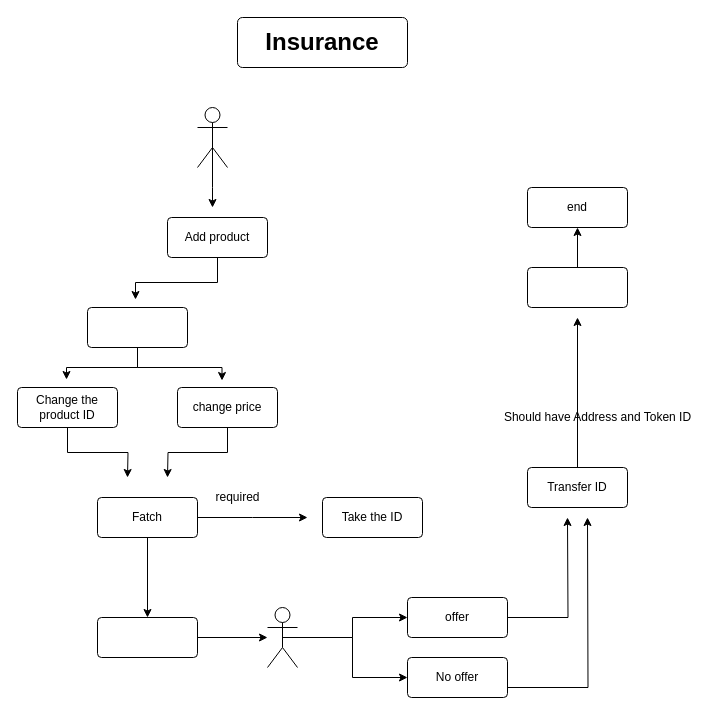
This 715x715 diagram has some shape labels left out. Here are the shapes that lost their labels. From the top down, the box of each, then its label:
(196, 106, 228, 168): client
(526, 266, 628, 308): Transfer transaction
(86, 306, 188, 348): Enter the product in formation
(96, 616, 198, 658): Payment the product
(266, 606, 298, 668): owner
